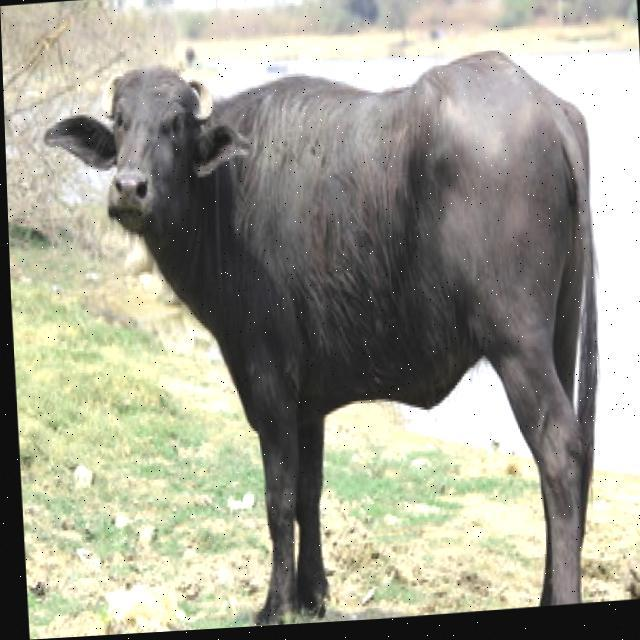Buffalo: (35, 23, 618, 638)
